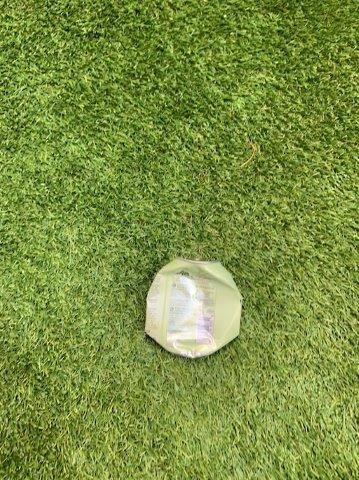kaleng: (146, 259, 241, 357)
